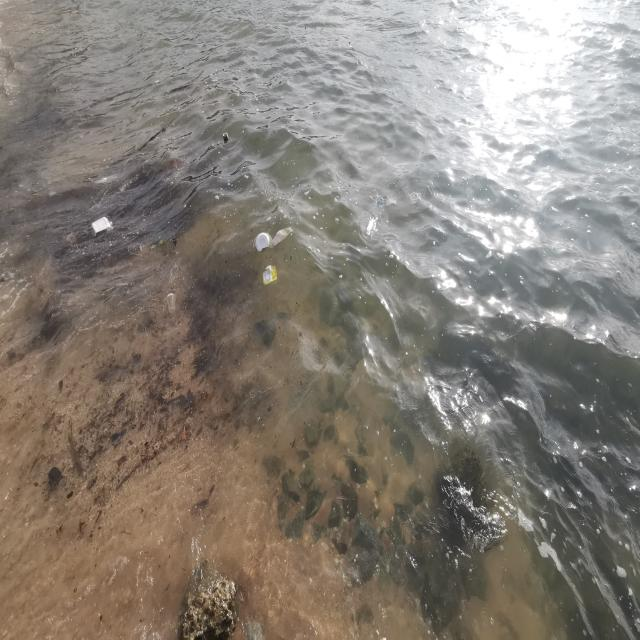can: (223, 132, 229, 142)
foam: (90, 217, 114, 238), (253, 232, 273, 252)
plastic: (364, 215, 376, 236)
plastic bottle: (262, 264, 279, 286), (167, 292, 177, 314), (408, 190, 422, 204)
unknow: (370, 188, 396, 209), (272, 225, 294, 247)
